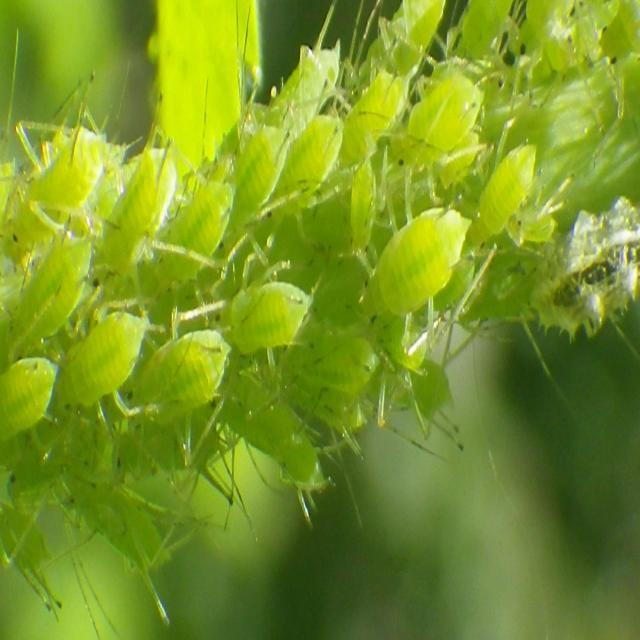Aphids: (0, 0, 640, 640)
